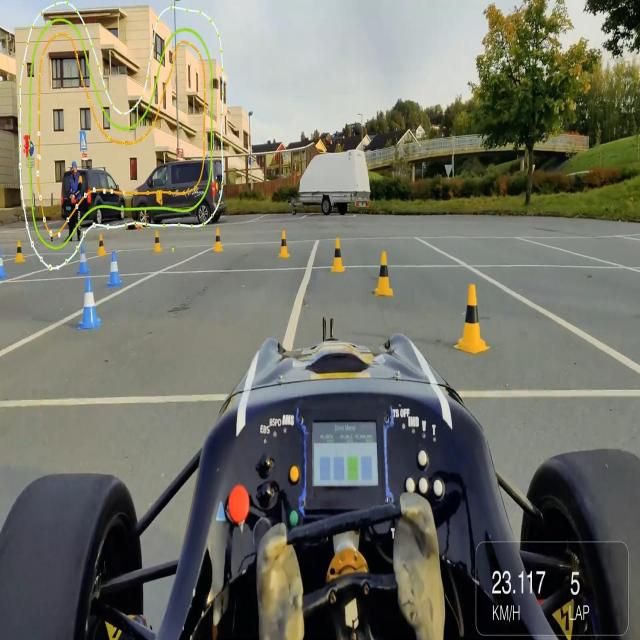blue_cone: (78, 276, 100, 330), (105, 250, 122, 288), (77, 247, 90, 276), (0, 245, 10, 278)
yellow_cone: (455, 279, 491, 354), (373, 250, 394, 296), (329, 237, 346, 274), (277, 229, 290, 258), (153, 230, 163, 253), (96, 233, 106, 256), (214, 226, 222, 254), (16, 237, 24, 263)
